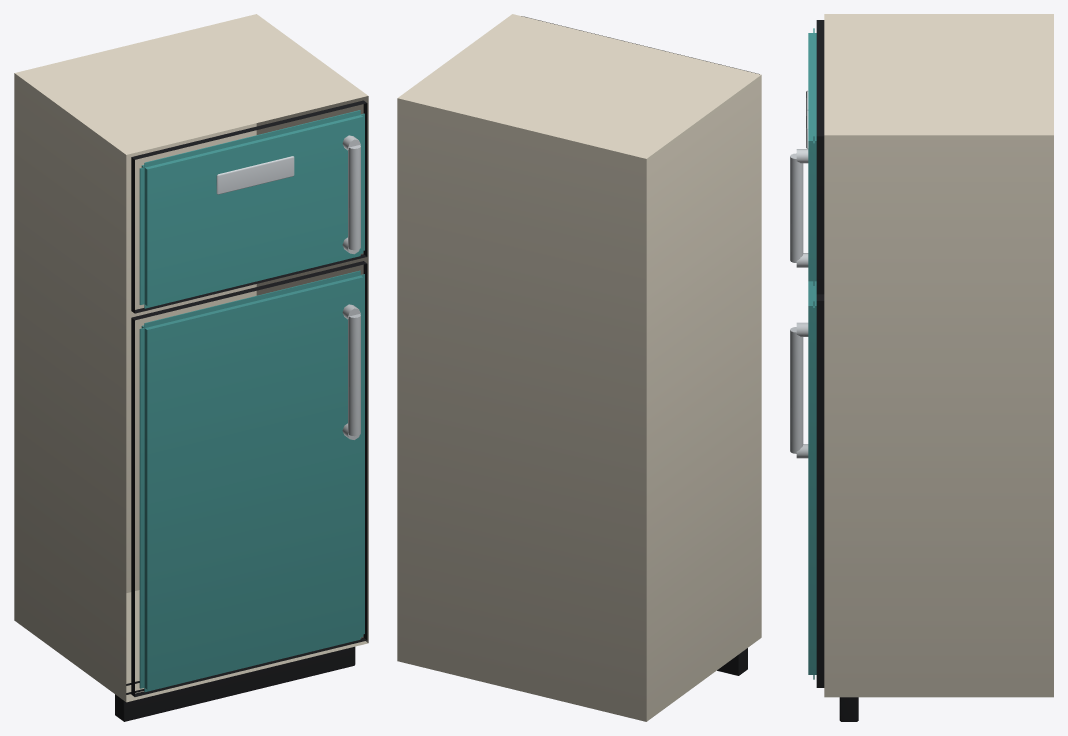
The model's file is Fridge_TopFreezer_01.glb.
3 views of the same model, side by side, from view 1: azimuth 30°, elevation 25°; view 2: azimuth 150°, elevation 25°; view 3: azimuth 270°, elevation 25° (orthographic). The views are drawn at different scales.
Visible parts, largest first — view 1: SM_Fridge_TopFreezer_01; view 2: SM_Fridge_TopFreezer_01; view 3: SM_Fridge_TopFreezer_01.
Boxes of the visible parts, box(x1,y1,x2,y2) form: SM_Fridge_TopFreezer_01: box(14, 14, 368, 721); SM_Fridge_TopFreezer_01: box(397, 14, 761, 721); SM_Fridge_TopFreezer_01: box(790, 14, 1053, 721).
Bounding box in the file's own units: 0.75 × 1.7 × 0.6895.
1 material, 1 textured.
